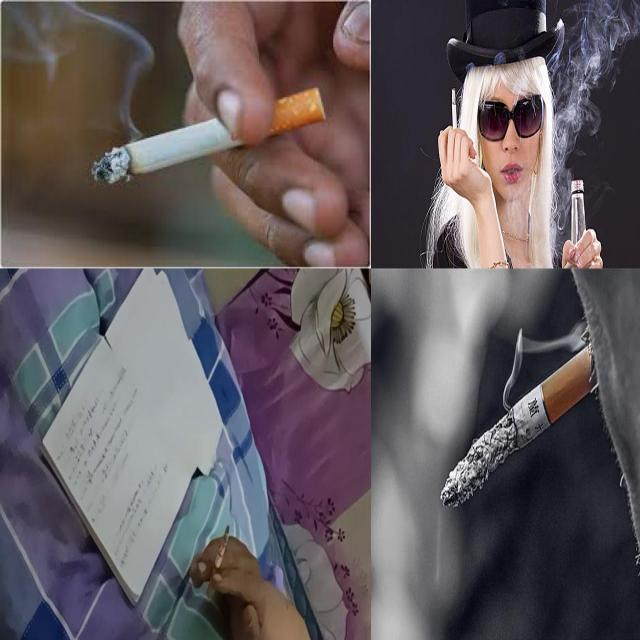cigarette: (440, 341, 602, 510), (91, 85, 328, 184), (206, 524, 230, 601), (448, 84, 458, 137)
